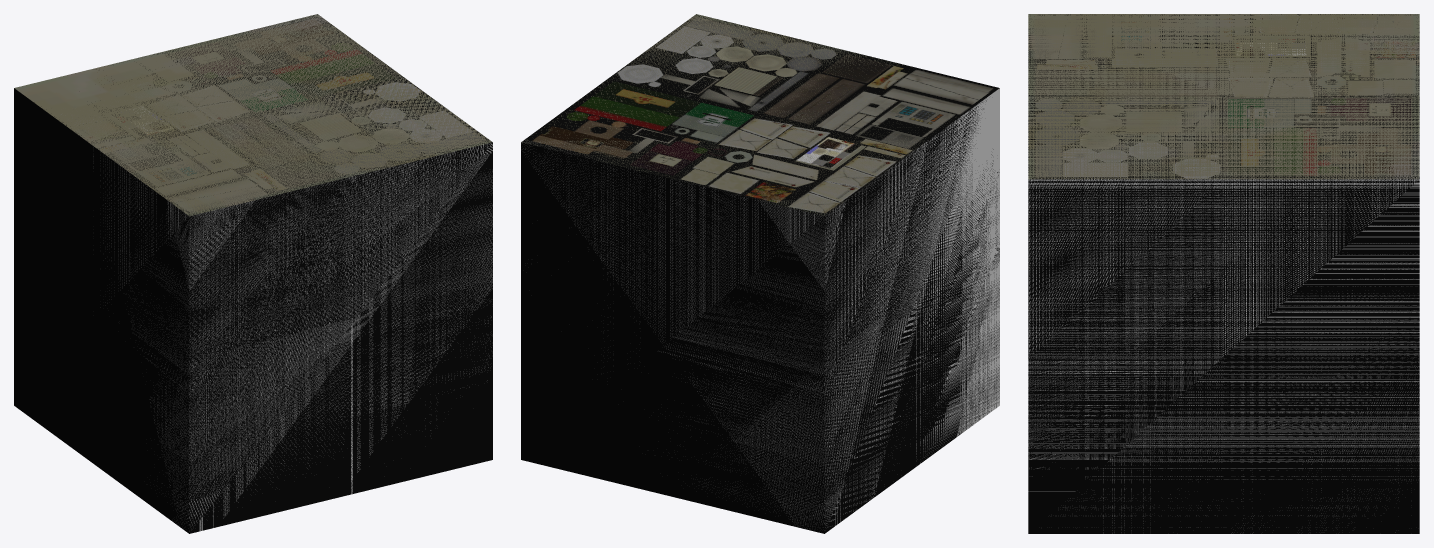
File: take_out_box_01.DAE
The picture shows the model from 3 angles, left to right: view 1: azimuth 30°, elevation 25°; view 2: azimuth 150°, elevation 25°; view 3: azimuth 270°, elevation 25°; orthographic projection. The views are drawn at different scales.
Visible parts, largest first — view 1: colbox-1, togobox_closed100, bounds; view 2: colbox-1, bounds, togobox_closed100; view 3: colbox-1, togobox_closed100, bounds.
Part boxes in pixels (x1,y1,x2,y2): colbox-1: (14,14,492,533); togobox_closed100: (14,14,491,216); bounds: (93,143,492,531); colbox-1: (521,14,999,533); bounds: (522,88,999,530); togobox_closed100: (521,14,960,215); colbox-1: (1028,14,1419,533); togobox_closed100: (1028,14,1419,179); bounds: (1028,179,1419,533).
Size of the model in its own units: 18.14 by 18.14 by 18.14.
